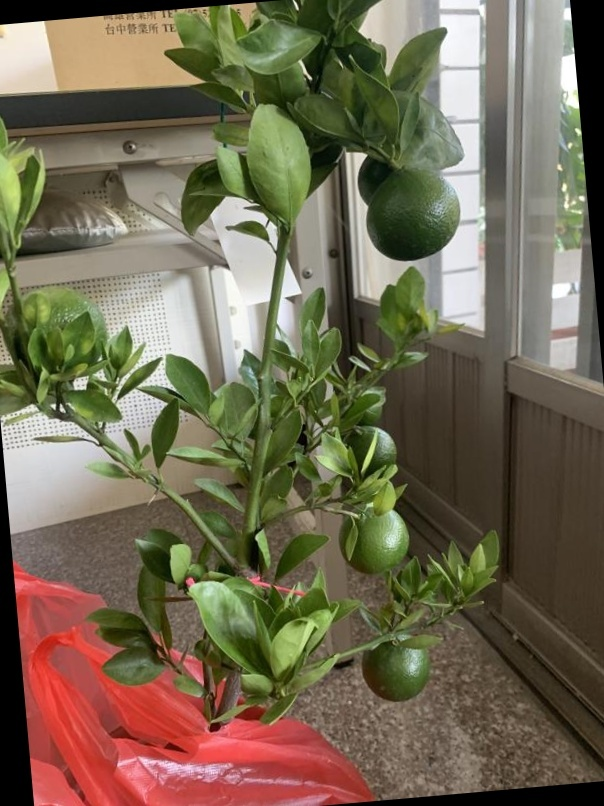Tangerine: (366, 161, 468, 265), (336, 505, 411, 574), (363, 632, 429, 703)
